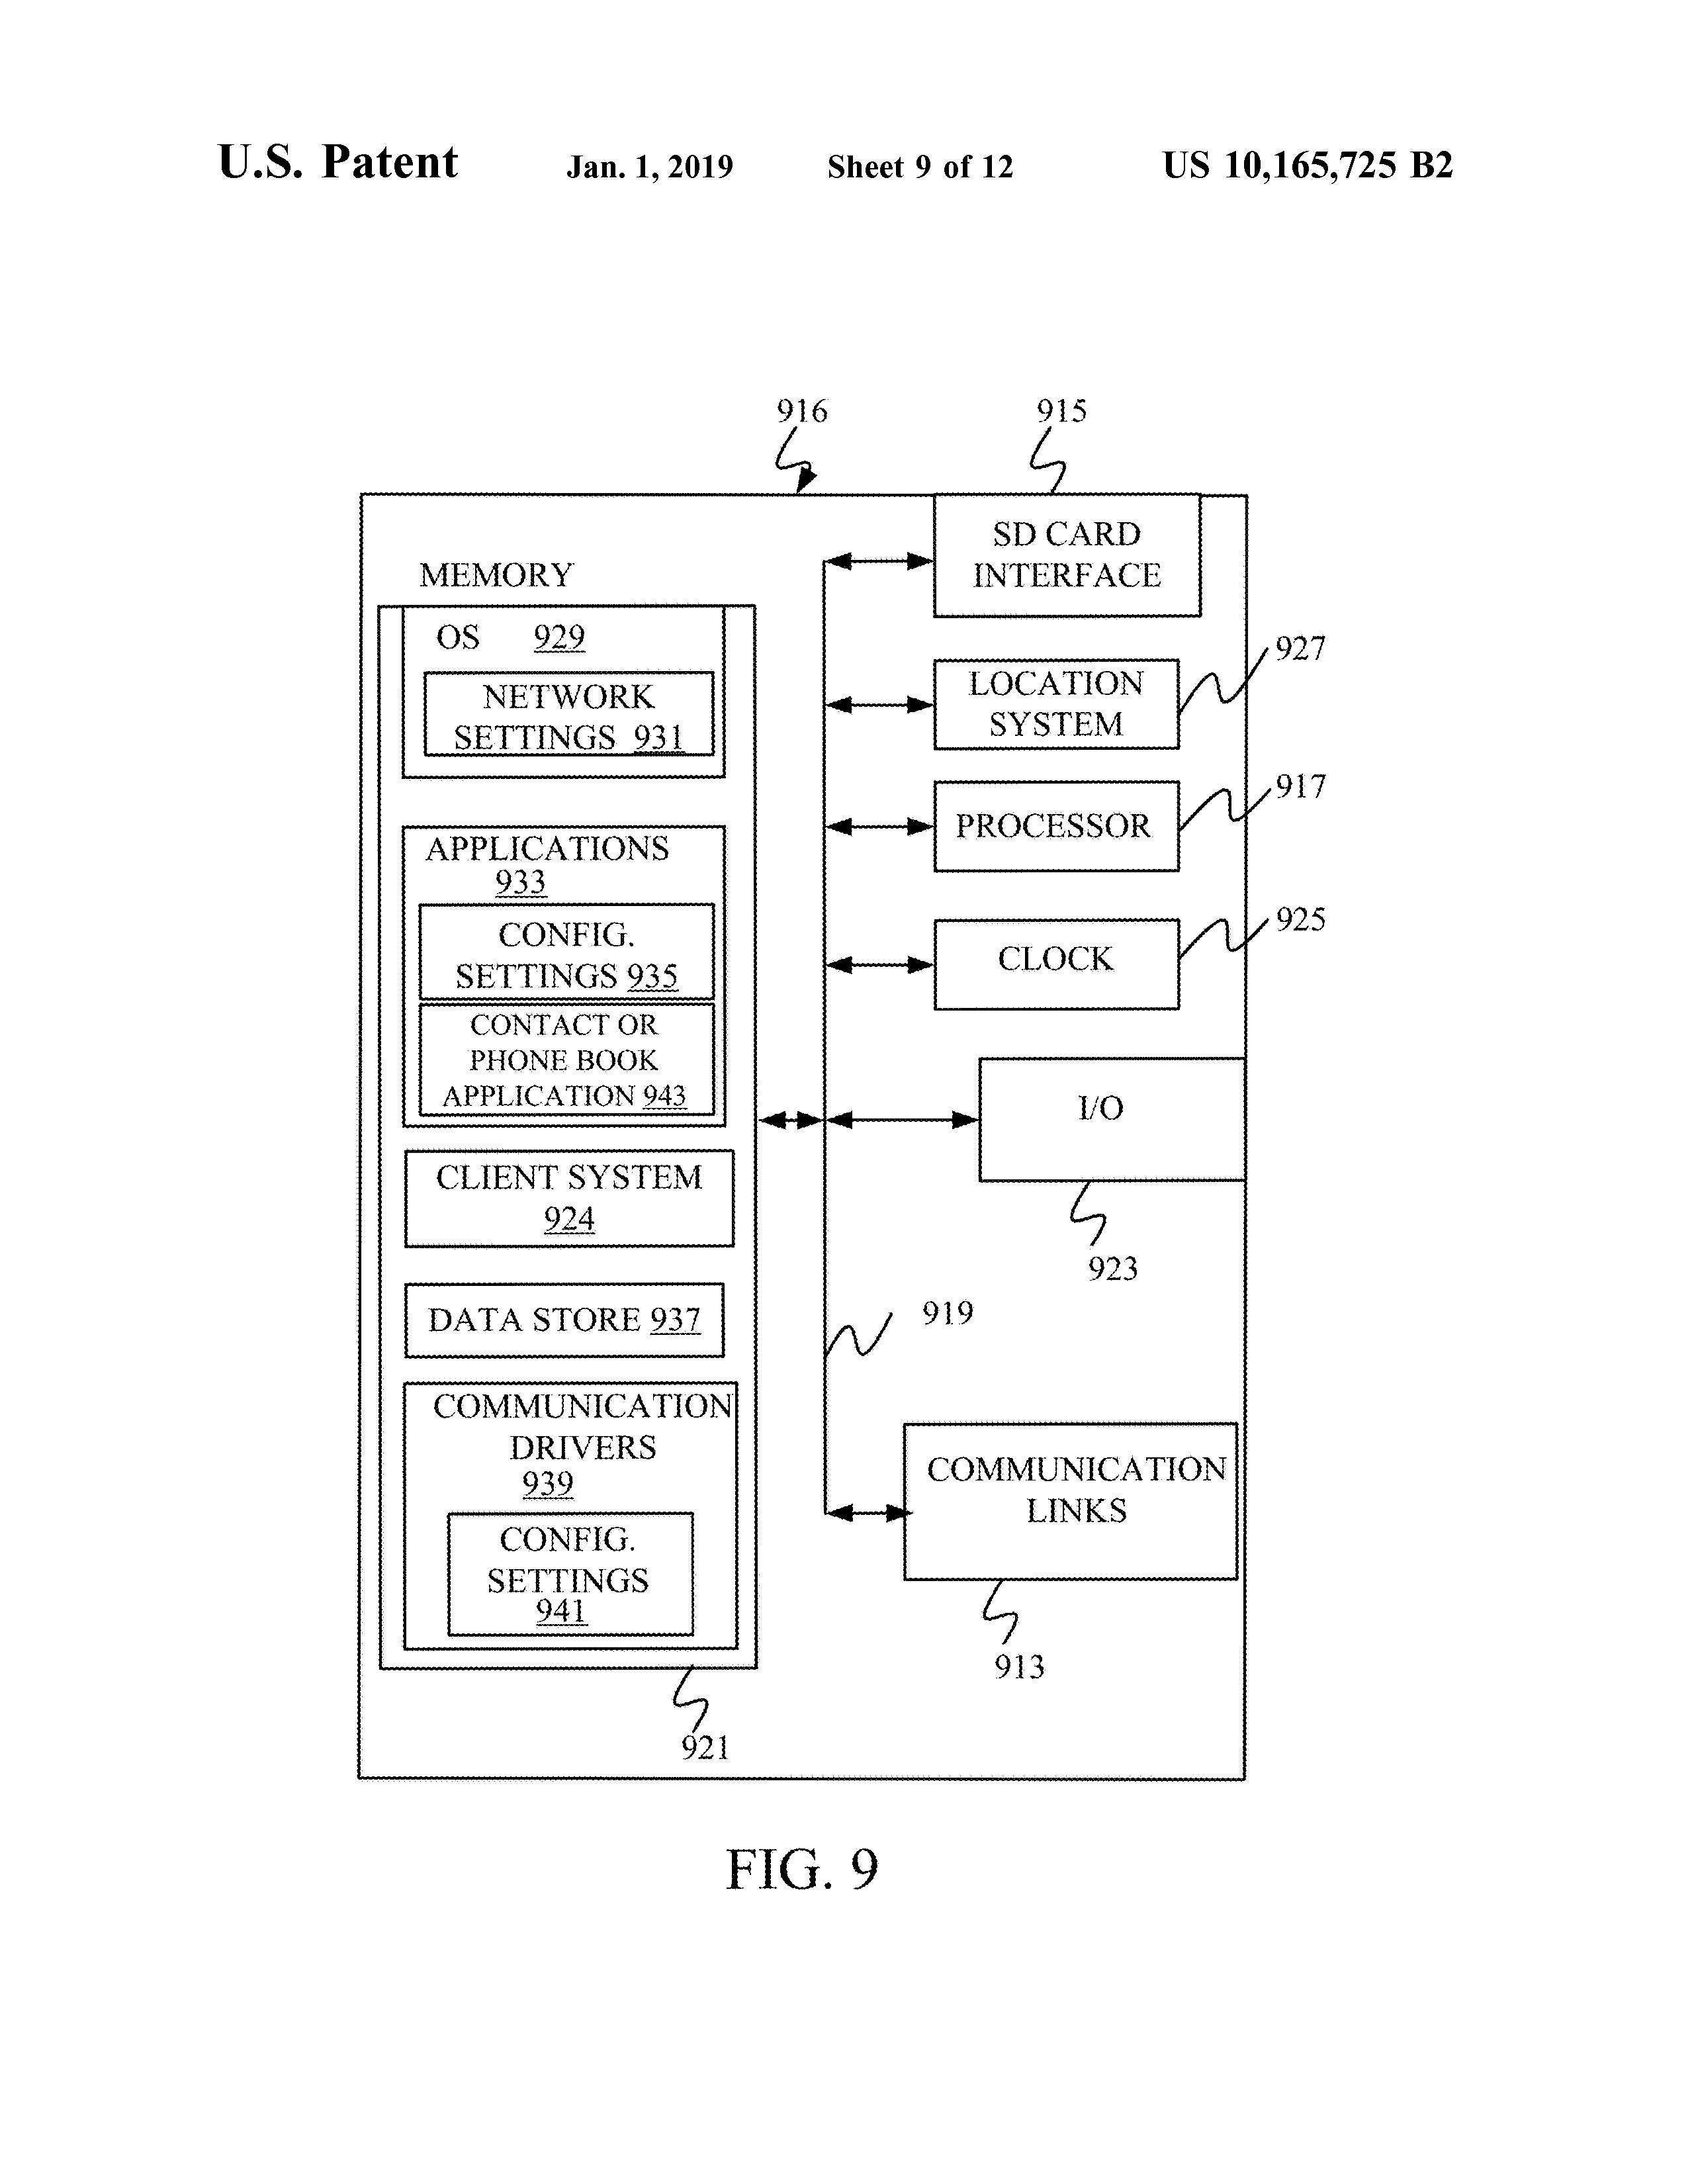patent image: (324, 377, 1334, 1907)
